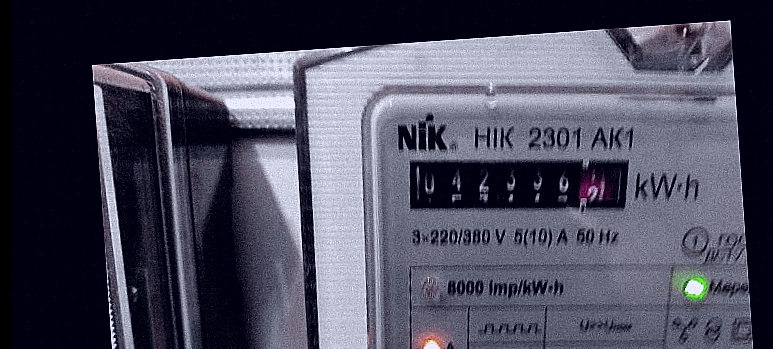0: (422, 166, 437, 196)
2: (474, 164, 494, 192)
3: (501, 162, 519, 192), (530, 161, 546, 190)
4: (448, 165, 466, 193)
6: (556, 165, 572, 193)
screen: (396, 135, 641, 232)
